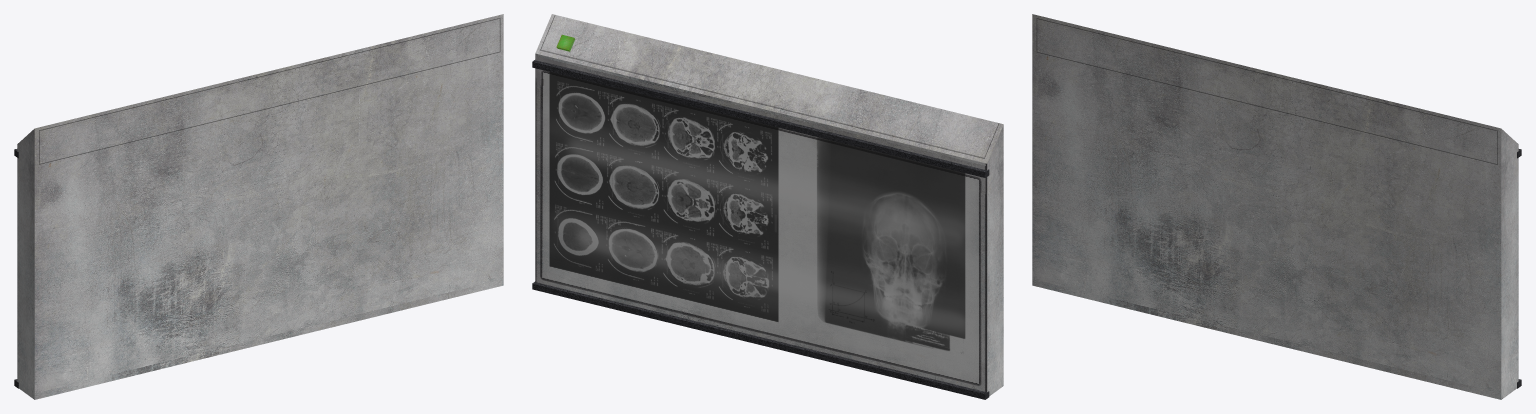
The model's file is screen.glb.
3 renders of one model, left to right at view 1: azimuth 30°, elevation 25°; view 2: azimuth 150°, elevation 25°; view 3: azimuth 330°, elevation 25°, orthographic. The views are drawn at different scales.
Parts seen in each view (by area): view 1: screen; view 2: screen; view 3: screen.
Boxes of the visible parts, bbox=[...] form: screen: bbox=[14, 14, 503, 399]; screen: bbox=[532, 14, 1003, 399]; screen: bbox=[1032, 14, 1521, 399].
Bounding box in the file's own units: 82.5 × 45.5 × 6.
Materials: 1 (1 with a texture image).
